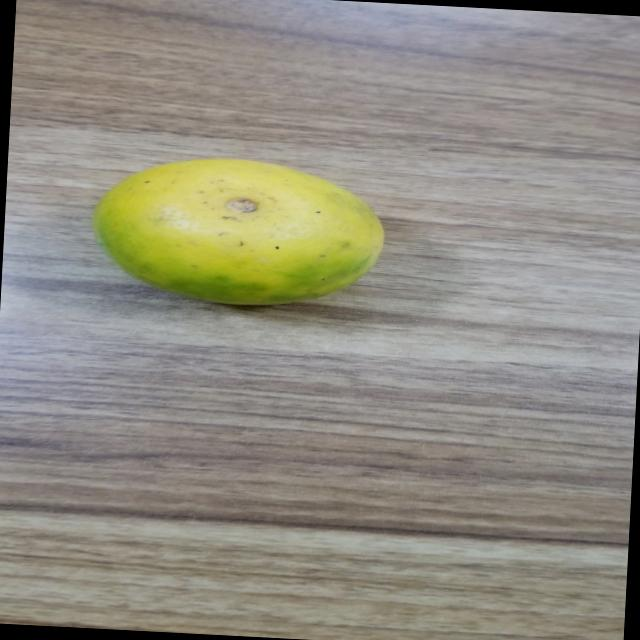Ripe orange: (75, 143, 394, 316)
